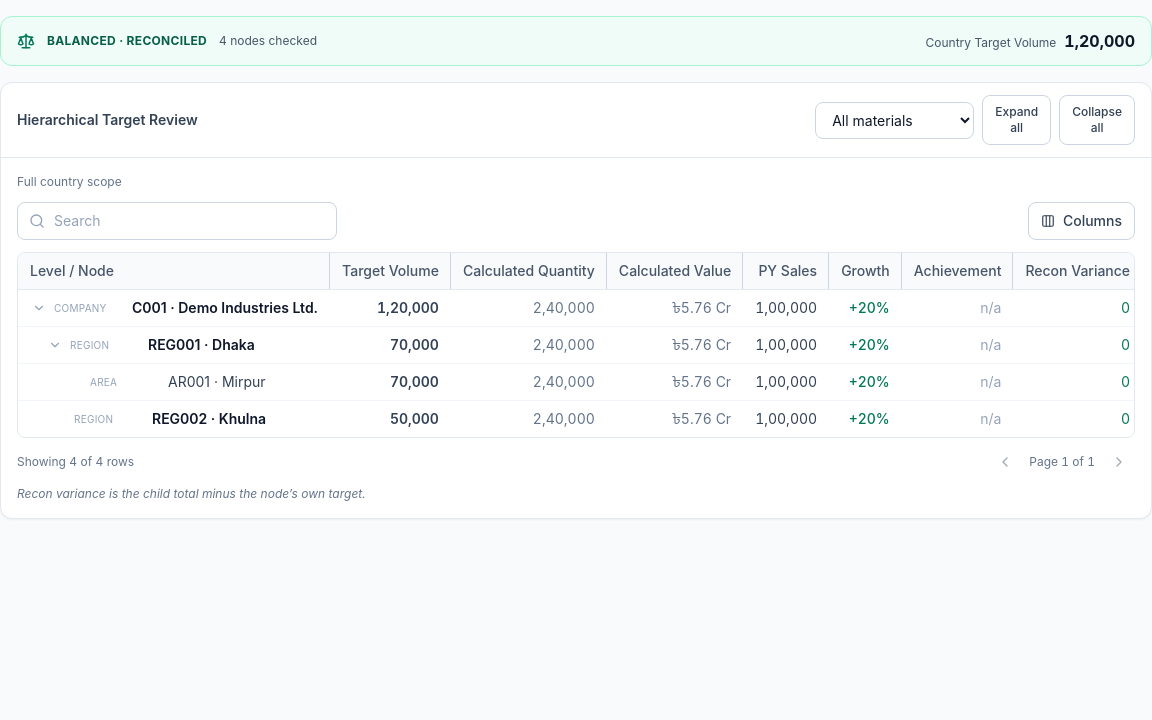
Test case: ReviewTree › hides a branch when its parent is collapsed
Click the button named "Collapse" in the row of "REG001": (55, 345) [46,336,64,354]
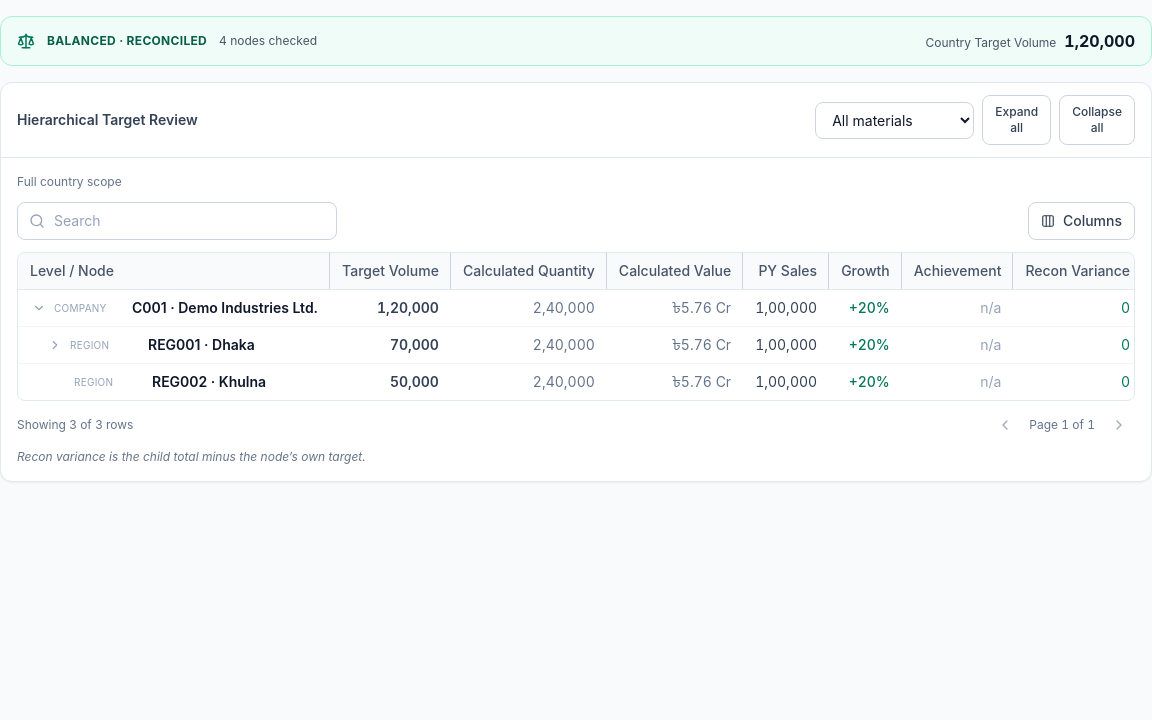
Expected: the text "REG002 · Khulna" is shown, [152,372,266,392]
Result: the text "AR001" is gone
